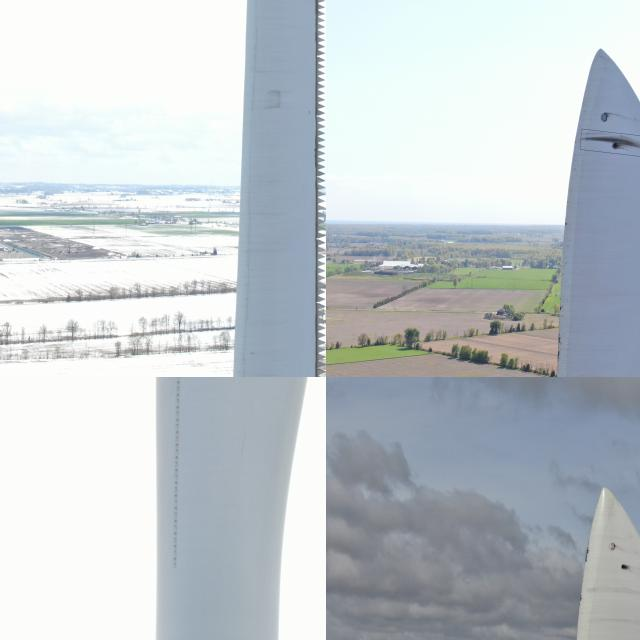damage: (609, 133, 639, 155), (580, 538, 592, 563), (577, 588, 585, 610), (619, 559, 629, 574), (611, 142, 619, 150)
